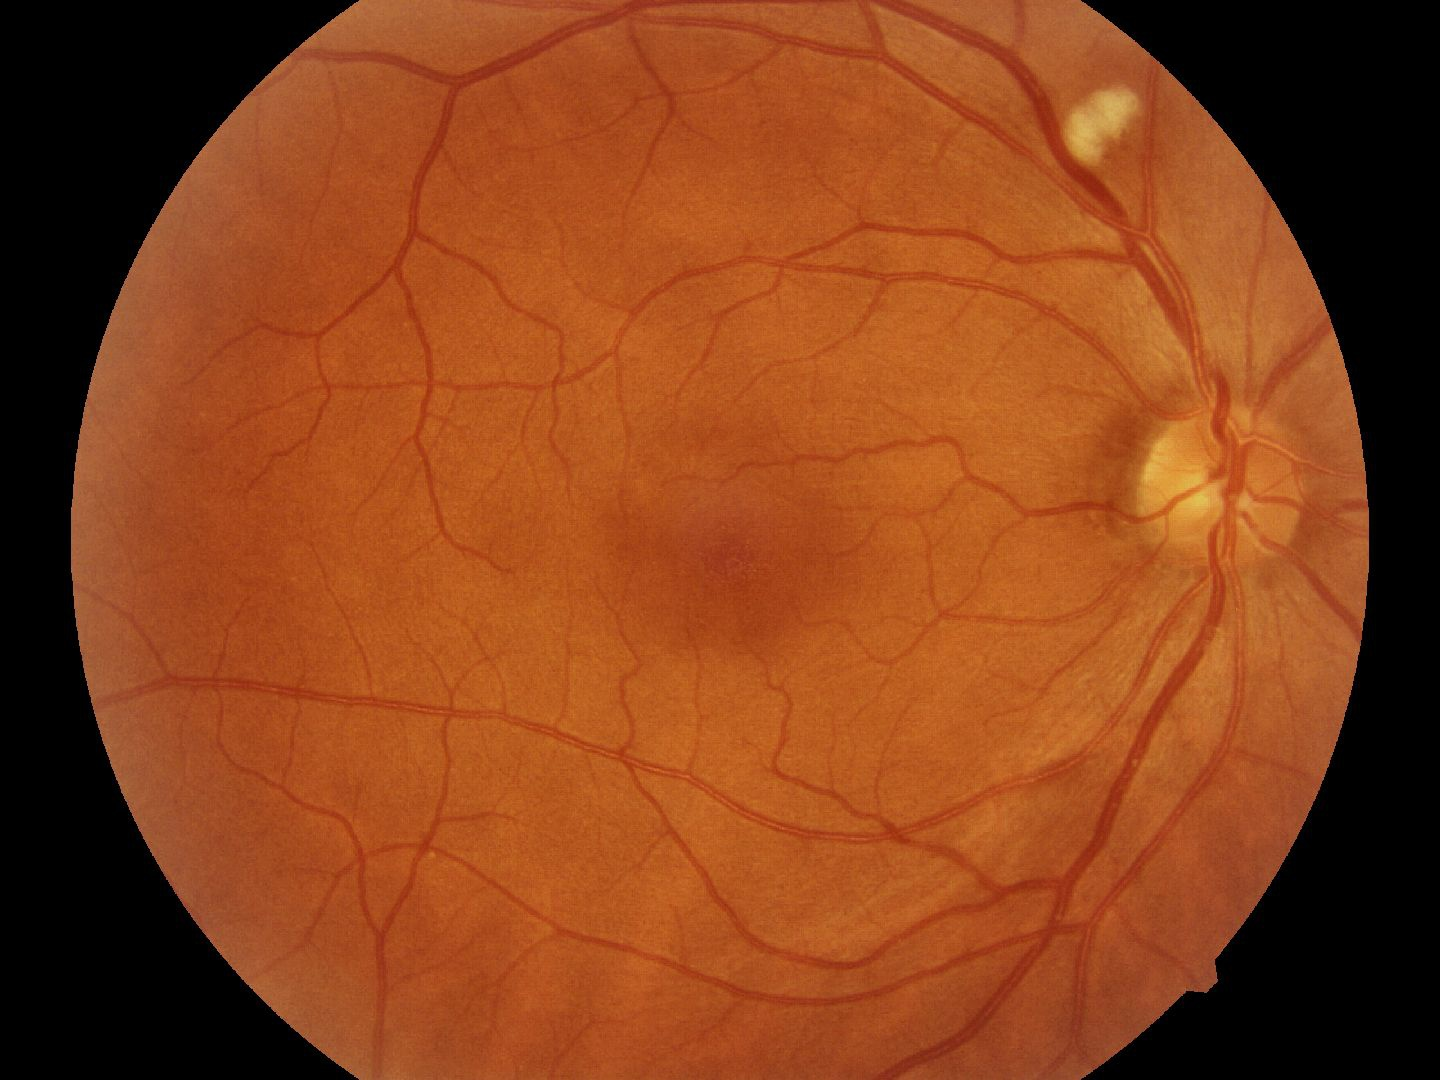Exudates: (1064, 69, 1149, 158)
Hemorrhages: (642, 440, 821, 658)
Optic-Disc: (1149, 396, 1295, 591)
Venules: (1028, 690, 1150, 1003), (1128, 213, 1217, 370)
